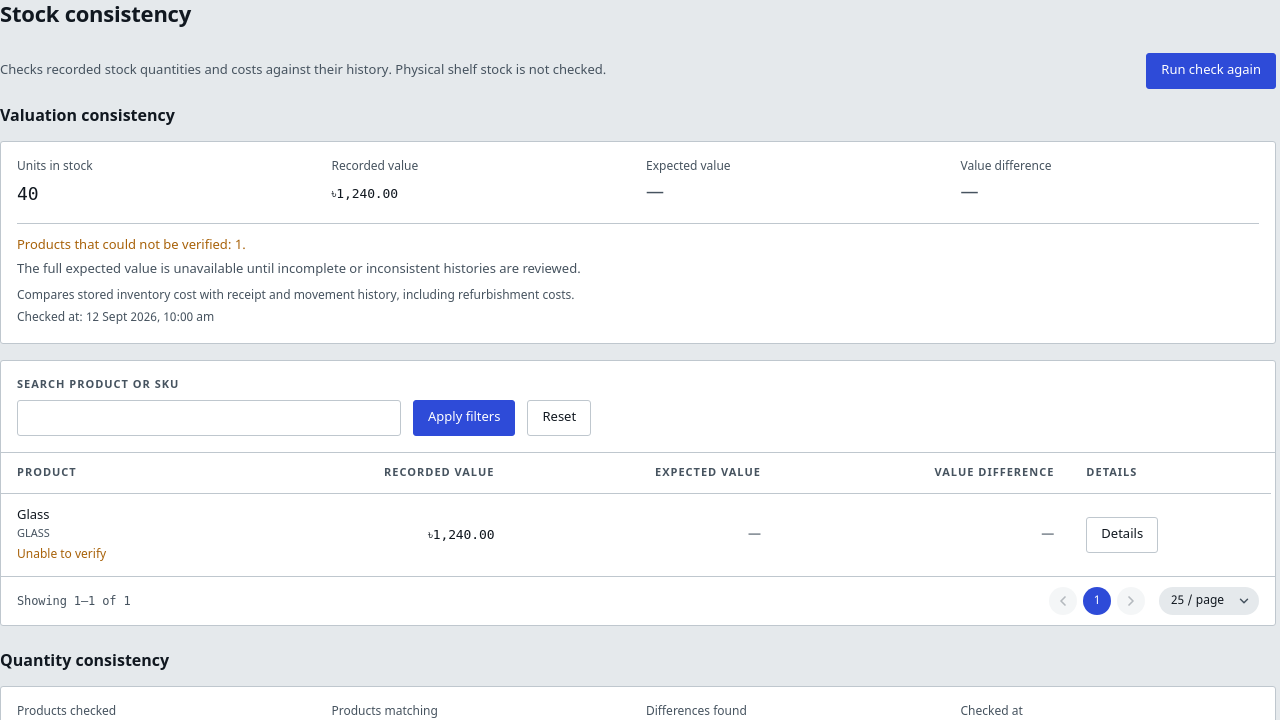
it: displays missing history as unverified and does not claim an exact expected total
Expected: the element that starts with "Valuation consistency" shows "could not be verified", top-left (17, 237), bottom-right (246, 254)
Click the button with aria-label "View valuation difference for Glass" at [1122, 535], box top-left (1086, 517), bottom-right (1158, 553)
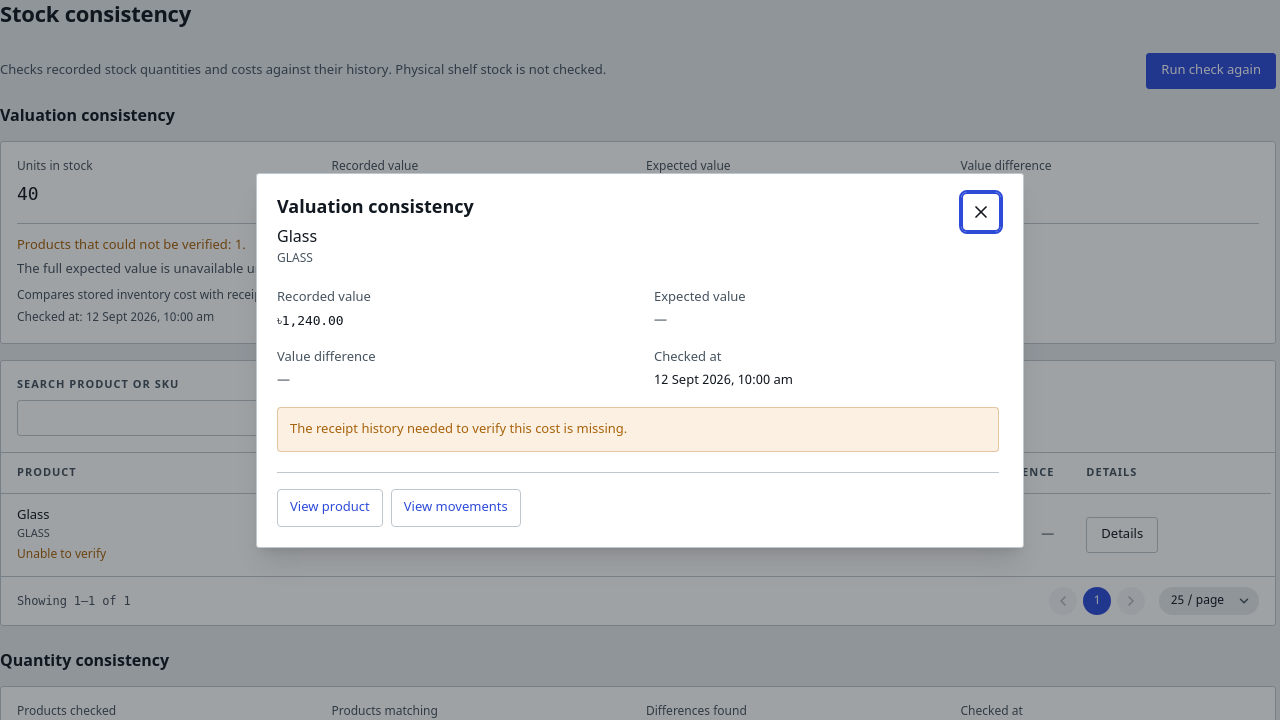
Expected: the dialog shows "receipt history needed", top-left (290, 420), bottom-right (627, 438)
Press the mouse on the element that starts with "Valuation consistency" at [640, 360], box top-left (0, 0), bottom-right (1279, 719)
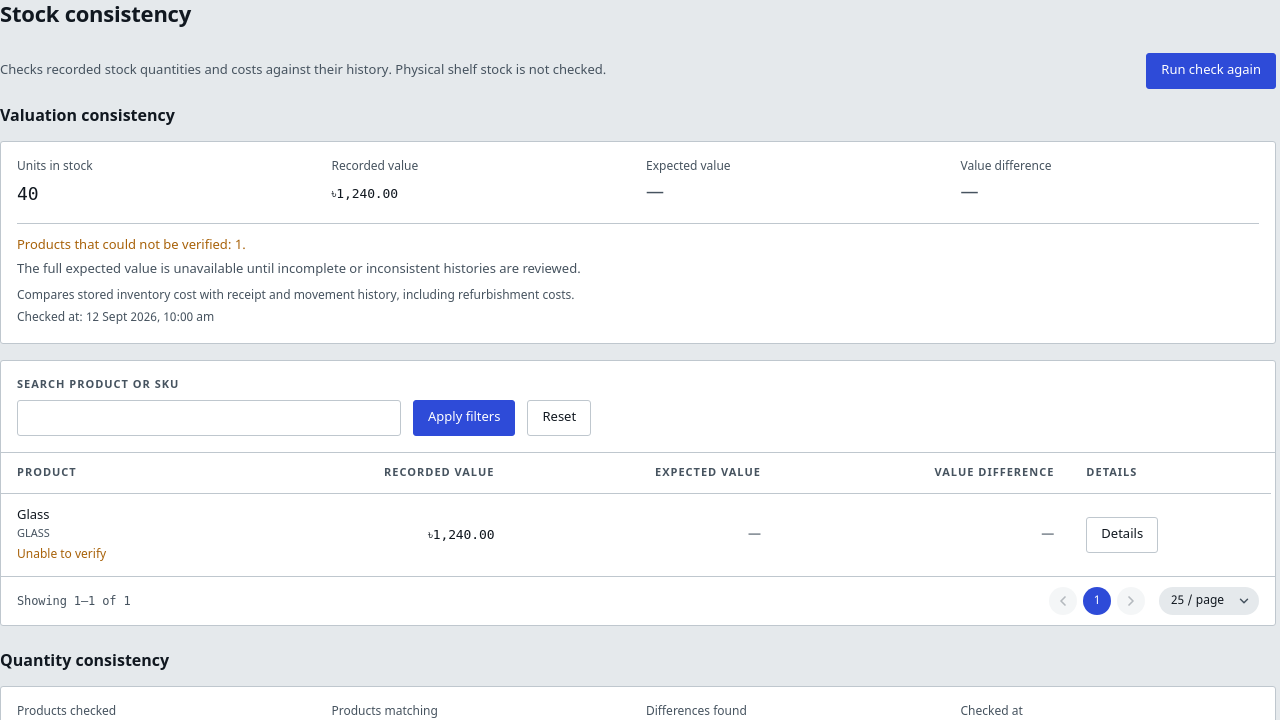
Expected: the dialog is gone
